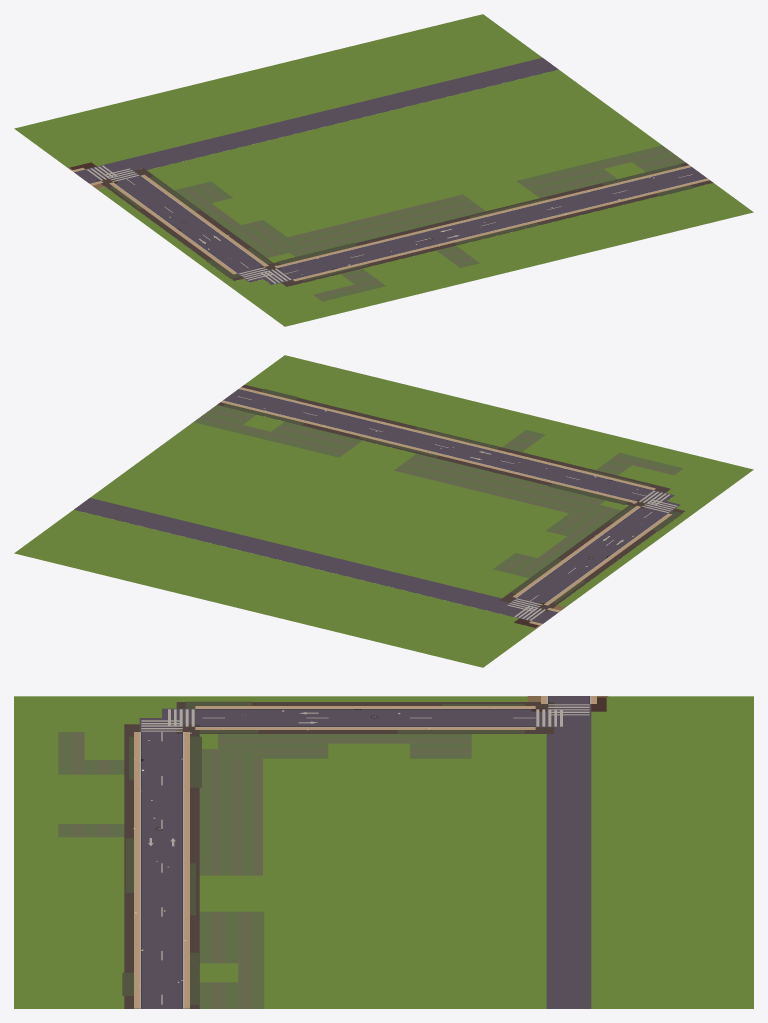
File: cure-3-2.glb
3 renders of one model, top to bottom at view 1: azimuth 30°, elevation 25°; view 2: azimuth 150°, elevation 25°; view 3: azimuth 270°, elevation 25°, orthographic. The views are drawn at different scales.
Visible parts, largest first — view 1: cure-3-2; view 2: cure-3-2; view 3: cure-3-2.
Boxes of the visible parts, box(x1,y1,x2,y2) form: cure-3-2: box(14, 14, 753, 326); cure-3-2: box(14, 355, 753, 667); cure-3-2: box(14, 696, 753, 1008).
Size of the model in its own units: 100 by 0.017 by 100.
